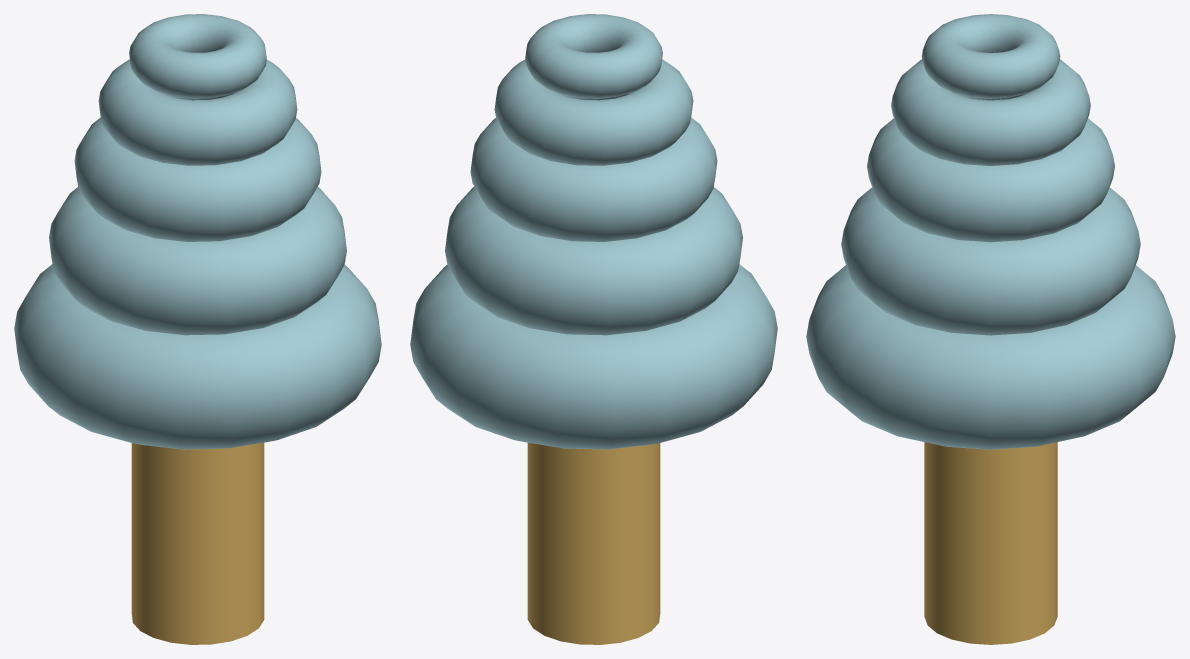
Rendered from donuts_azul.fbx.
3 renders of one model, left to right at view 1: azimuth 30°, elevation 25°; view 2: azimuth 150°, elevation 25°; view 3: azimuth 270°, elevation 25°, orthographic.
Visible parts, largest first — view 1: pTorus19, pTorus18, arvore11, pTorus20, pTorus16, pTorus17; view 2: pTorus19, pTorus18, arvore11, pTorus20, pTorus16, pTorus17; view 3: pTorus19, pTorus18, arvore11, pTorus20, pTorus16, pTorus17.
Part boxes in pixels (bbox=[...]): pTorus19: bbox=[14, 264, 381, 449]; pTorus18: bbox=[49, 187, 346, 335]; arvore11: bbox=[131, 442, 264, 644]; pTorus20: bbox=[74, 117, 321, 241]; pTorus16: bbox=[98, 59, 297, 165]; pTorus17: bbox=[129, 14, 266, 98]; pTorus19: bbox=[410, 264, 777, 449]; pTorus18: bbox=[445, 187, 742, 335]; arvore11: bbox=[527, 442, 660, 644]; pTorus20: bbox=[470, 117, 717, 241]; pTorus16: bbox=[494, 59, 693, 165]; pTorus17: bbox=[525, 14, 662, 98]; pTorus19: bbox=[806, 265, 1175, 449]; pTorus18: bbox=[841, 187, 1140, 335]; arvore11: bbox=[924, 442, 1057, 644]; pTorus20: bbox=[867, 118, 1114, 242]; pTorus16: bbox=[891, 59, 1090, 165]; pTorus17: bbox=[921, 14, 1060, 98].
Bounding box in the file's own units: 1.57 × 2.73 × 1.57.
